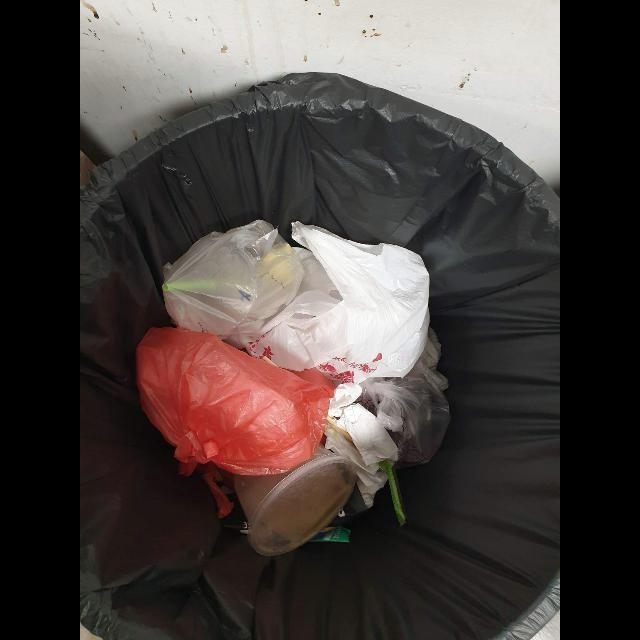paper: (333, 405, 398, 465)
plastic_bag: (245, 221, 430, 387), (136, 328, 335, 478), (162, 220, 305, 335), (356, 375, 449, 464)
plastic_container: (234, 443, 356, 556)
